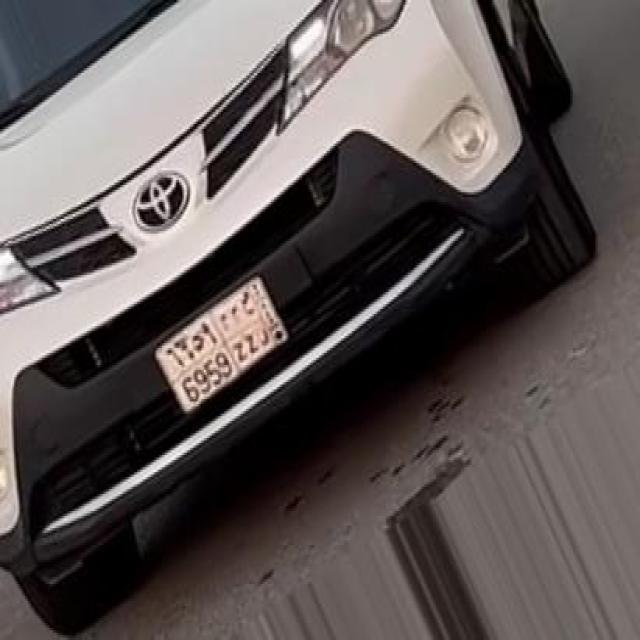Car-plate: (144, 253, 303, 437)
